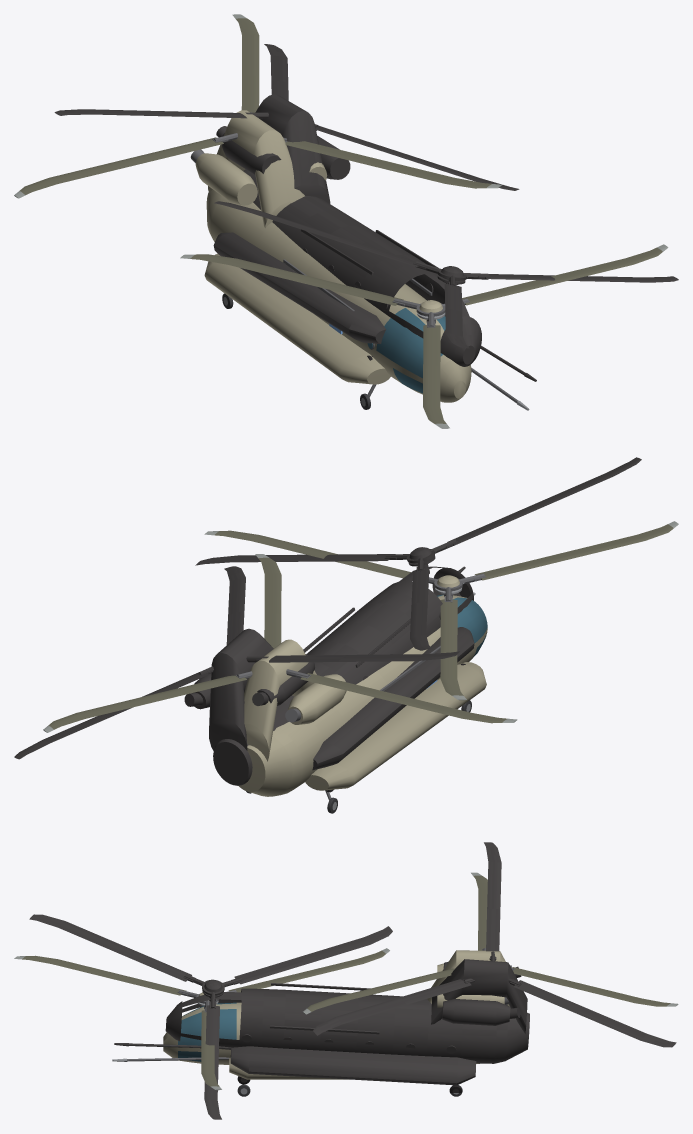
File: heavyLift__h_47er_uk.glb
3 renders of one model, top to bottom at view 1: azimuth 30°, elevation 25°; view 2: azimuth 150°, elevation 25°; view 3: azimuth 270°, elevation 25°, orthographic. The views are drawn at different scales.
Parts seen in each view (by area): view 1: Wreck, Fuselage_Mesh, Rotor_Main_Mesh, Rotor_Main_2_Mesh, Engines_Mesh; view 2: Wreck, Fuselage_Mesh, Rotor_Main_Mesh, Rotor_Main_2_Mesh, Engines_Mesh; view 3: Wreck, Fuselage_Mesh, Rotor_Main_Mesh, Rotor_Main_2_Mesh, Engines_Mesh.
Boxes of the visible parts, box(x1,y1,x2,y2) form: Wreck: box(54, 44, 678, 381); Fuselage_Mesh: box(204, 110, 529, 410); Rotor_Main_Mesh: box(180, 244, 668, 428); Rotor_Main_2_Mesh: box(14, 14, 502, 198); Engines_Mesh: box(190, 149, 327, 205); Wreck: box(14, 457, 641, 792); Fuselage_Mesh: box(238, 592, 487, 796); Rotor_Main_Mesh: box(204, 521, 678, 700); Rotor_Main_2_Mesh: box(43, 554, 517, 732); Engines_Mesh: box(285, 674, 346, 724); Wreck: box(29, 842, 676, 1119); Fuselage_Mesh: box(112, 950, 509, 1079); Rotor_Main_Mesh: box(14, 948, 389, 1090); Rotor_Main_2_Mesh: box(303, 872, 678, 1014); Engines_Mesh: box(437, 963, 511, 1007).
Size of what is drawn, in the model's own units: 18.65 by 7.8 by 28.27.
